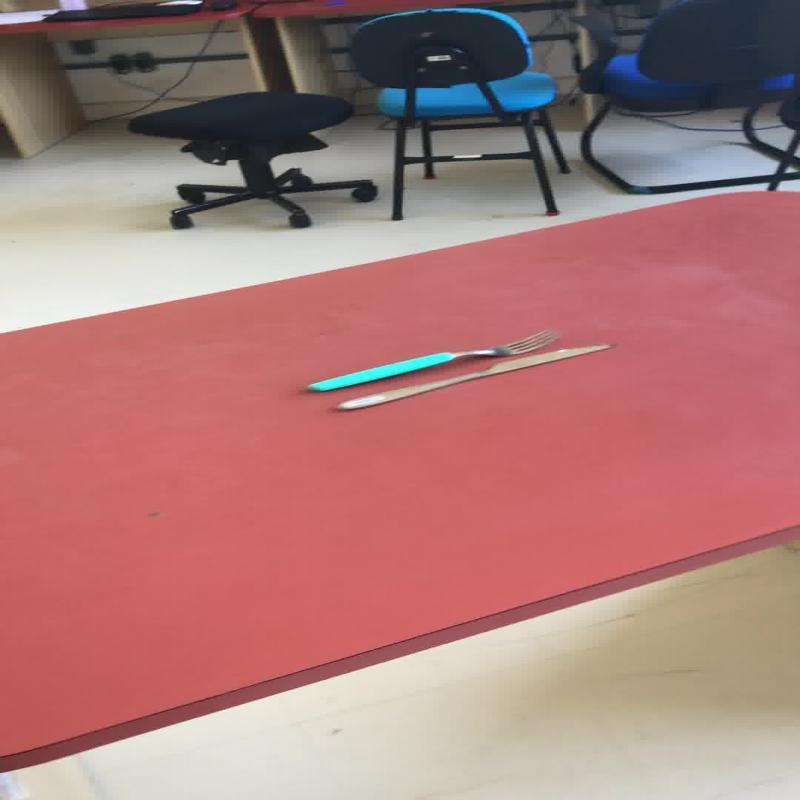fork: (303, 328, 559, 392)
knife: (332, 341, 616, 411), (304, 328, 560, 392)
